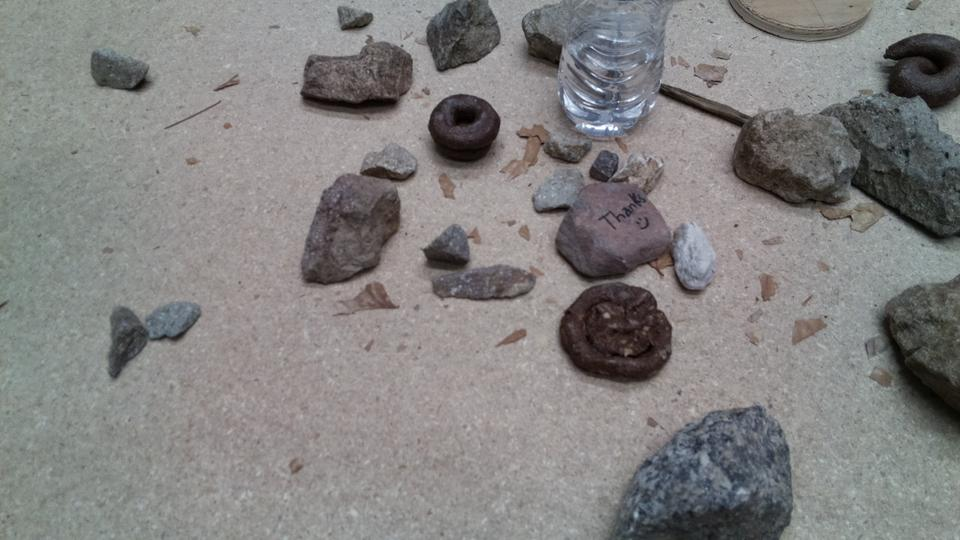poop: (557, 280, 672, 382), (881, 31, 960, 108), (426, 93, 501, 165)
